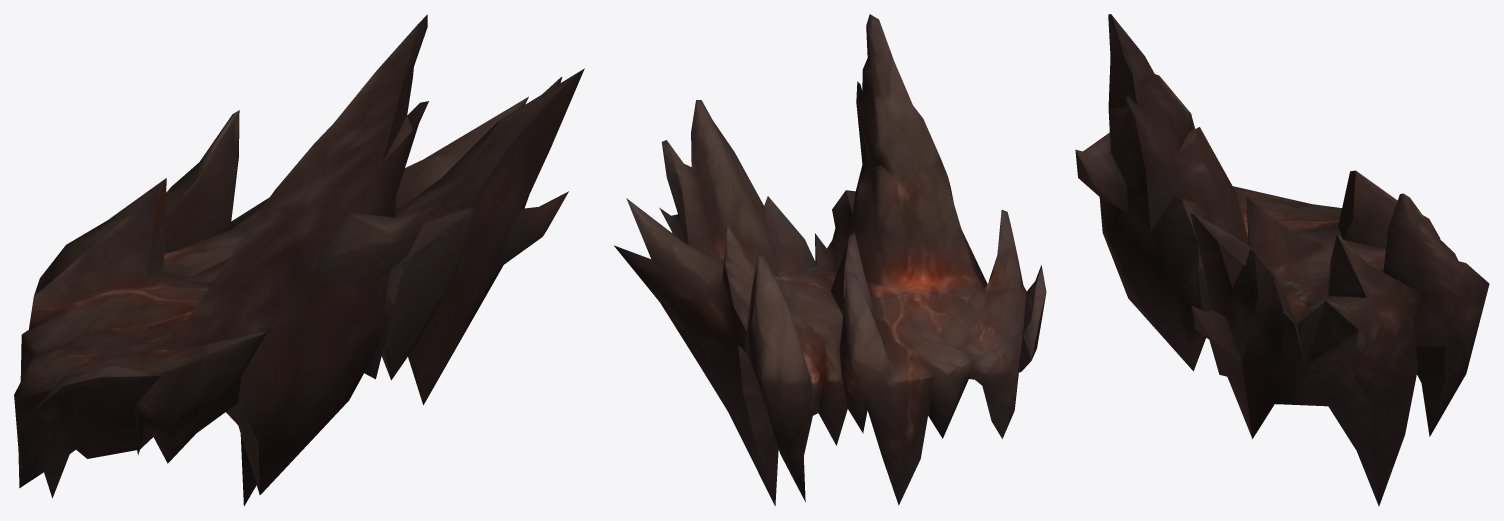
Rendered from 1005_Item_Stone_09.FBX.
3 views of the same model, side by side, from view 1: azimuth 30°, elevation 25°; view 2: azimuth 150°, elevation 25°; view 3: azimuth 270°, elevation 25° (orthographic). The views are drawn at different scales.
Parts seen in each view (by area): view 1: 1005_Item_Stone_09; view 2: 1005_Item_Stone_09; view 3: 1005_Item_Stone_09.
Boxes of the visible parts, bbox=[...] form: 1005_Item_Stone_09: bbox=[14, 14, 584, 506]; 1005_Item_Stone_09: bbox=[614, 14, 1046, 505]; 1005_Item_Stone_09: bbox=[1075, 14, 1489, 506].
Bounding box in the file's own units: 7114 × 7495 × 5606.
